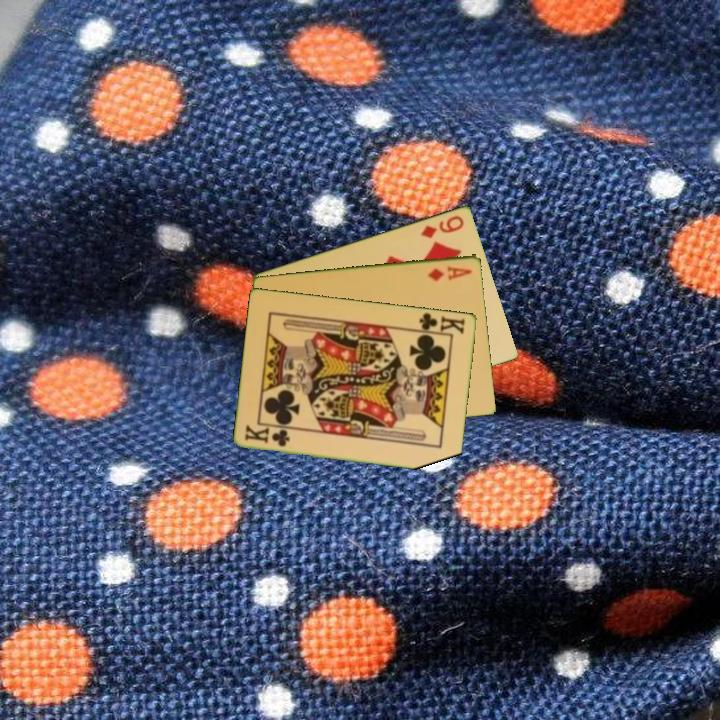9d: (417, 212, 467, 241)
Ad: (425, 262, 475, 283)
Kc: (413, 309, 468, 337), (241, 423, 293, 449)
